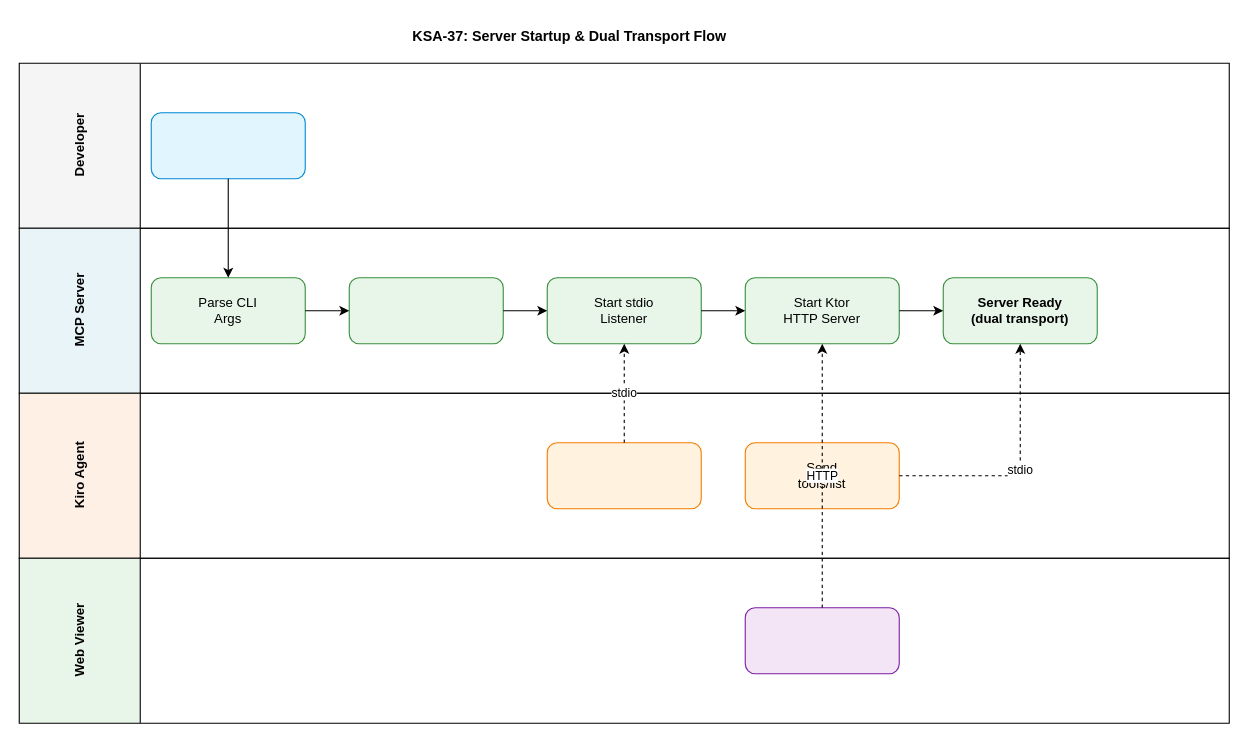
Image size: 1249x743. Some labels were removed from this diagram. Each missing label, with the centre of its shape:
"GET /api/health" belongs at point (821, 640).
"Init Config" belongs at point (425, 310).
"Send initialize" belongs at point (623, 475).
"Start Server (CLI)" belongs at point (227, 145).
